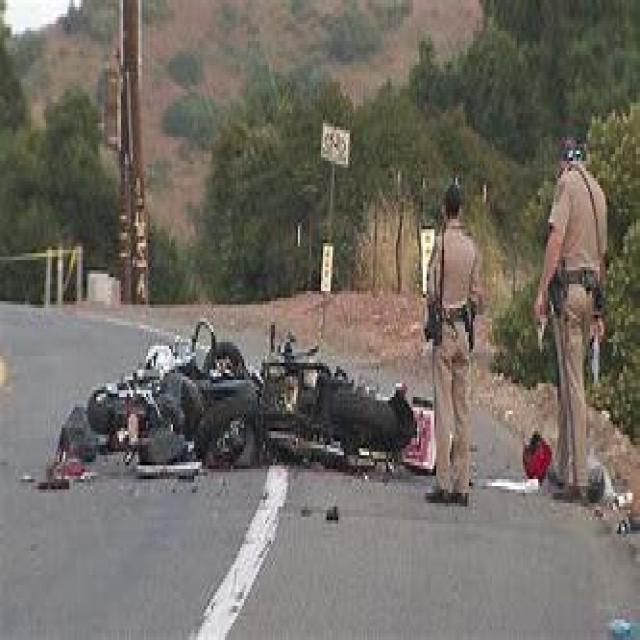Nguy hiểm: (36, 303, 437, 494)
